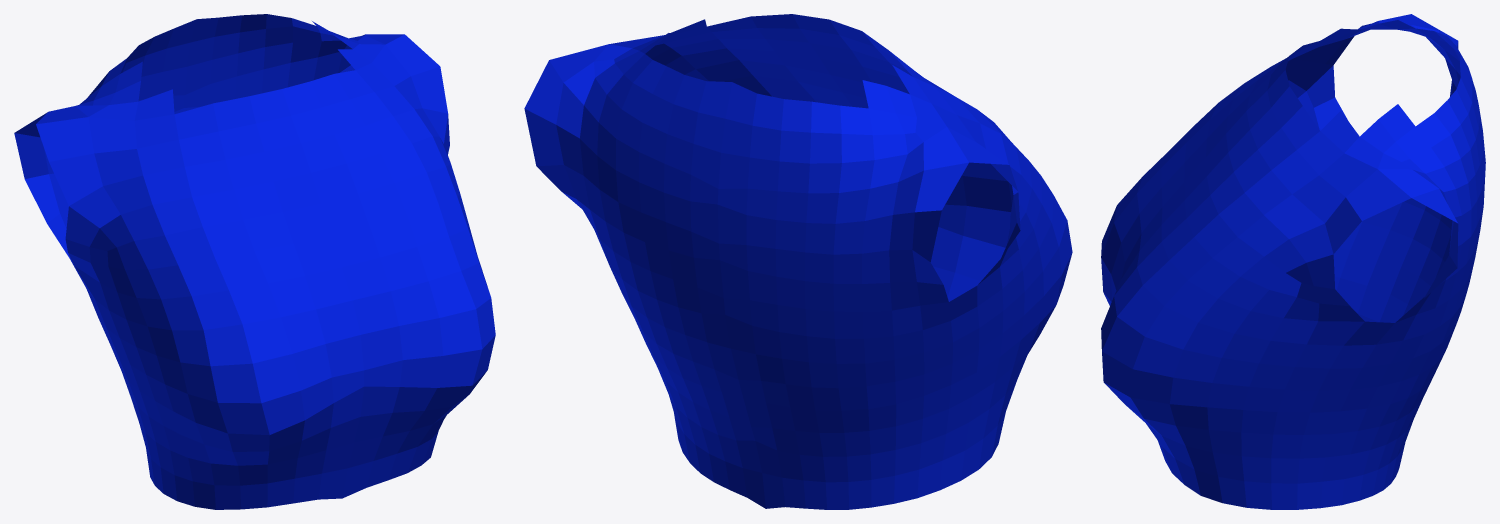
Rendered from human_shirt4.fbx.
The picture shows the model from 3 angles, left to right: view 1: azimuth 30°, elevation 25°; view 2: azimuth 150°, elevation 25°; view 3: azimuth 270°, elevation 25°; orthographic projection. The views are drawn at different scales.
Parts seen in each view (by area): view 1: Shirt; view 2: Shirt; view 3: Shirt.
Part boxes in pixels (x1=…): Shirt: x1=14, y1=14, x2=495, y2=509; Shirt: x1=524, y1=14, x2=1072, y2=509; Shirt: x1=1101, y1=14, x2=1485, y2=509.
Bounding box in the file's own units: 32.17 × 31.16 × 26.79.
